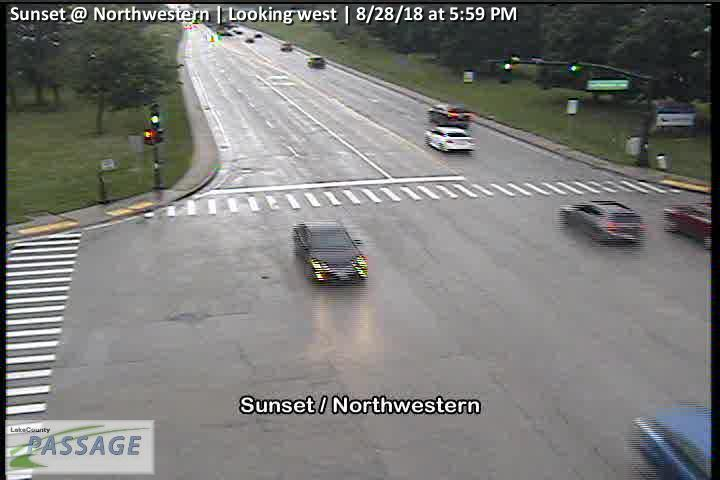SUV: (561, 199, 643, 246), (663, 204, 714, 247), (427, 104, 469, 128), (308, 56, 326, 68), (279, 41, 292, 51)
Sedan: (294, 219, 368, 283), (425, 126, 474, 152)
